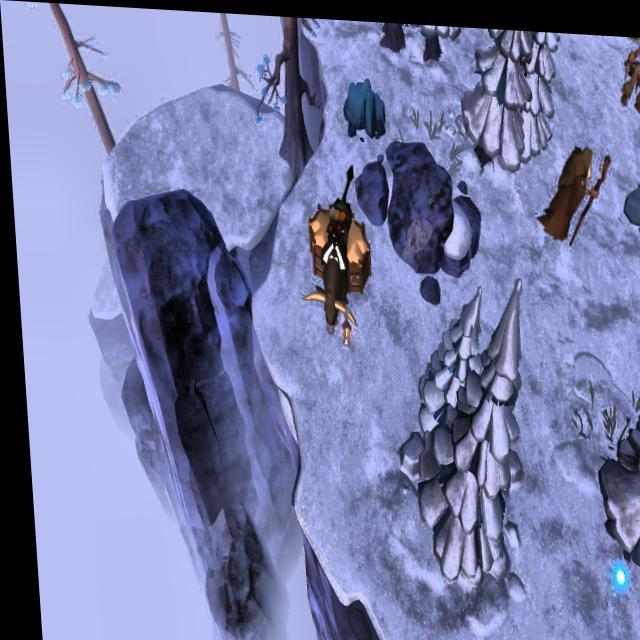enemy_factionKeeper: (527, 136, 616, 241), (612, 35, 640, 107)
rock_t4: (335, 73, 386, 140)
